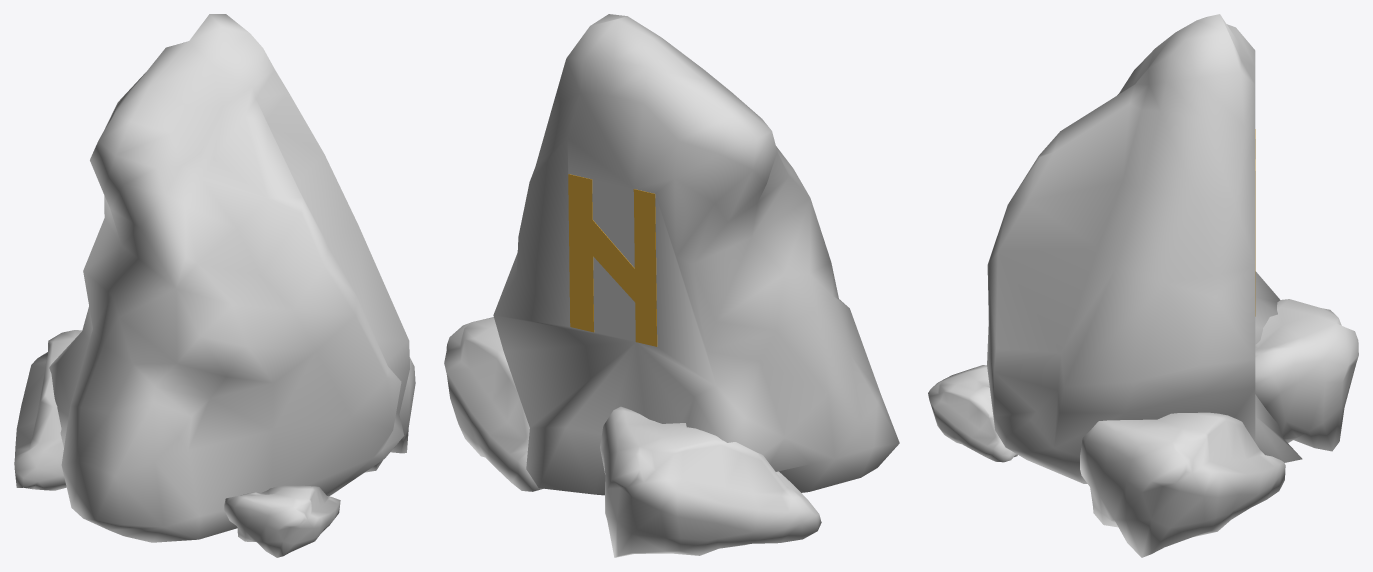
The model's file is Hagalaz.fbx.
3 renders of one model, left to right at view 1: azimuth 30°, elevation 25°; view 2: azimuth 150°, elevation 25°; view 3: azimuth 270°, elevation 25°, orthographic. The views are drawn at different scales.
Parts seen in each view (by area): view 1: uploads_files_4276670_stone_small; view 2: uploads_files_4276670_stone_small, Hagalaz; view 3: uploads_files_4276670_stone_small.
Part boxes in pixels (x1,y1,x2,y2): uploads_files_4276670_stone_small: [14, 14, 415, 557]; uploads_files_4276670_stone_small: [444, 14, 899, 557]; Hagalaz: [568, 174, 657, 346]; uploads_files_4276670_stone_small: [928, 14, 1358, 557].
Size of the model in its own units: 155 by 181 by 152.
